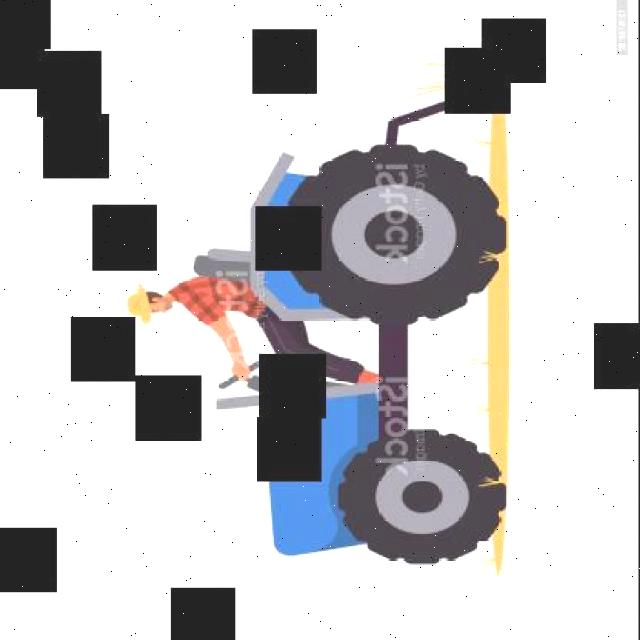Tratores - v5 YOLO V8L 2024-11-13: (94, 63, 517, 580)
